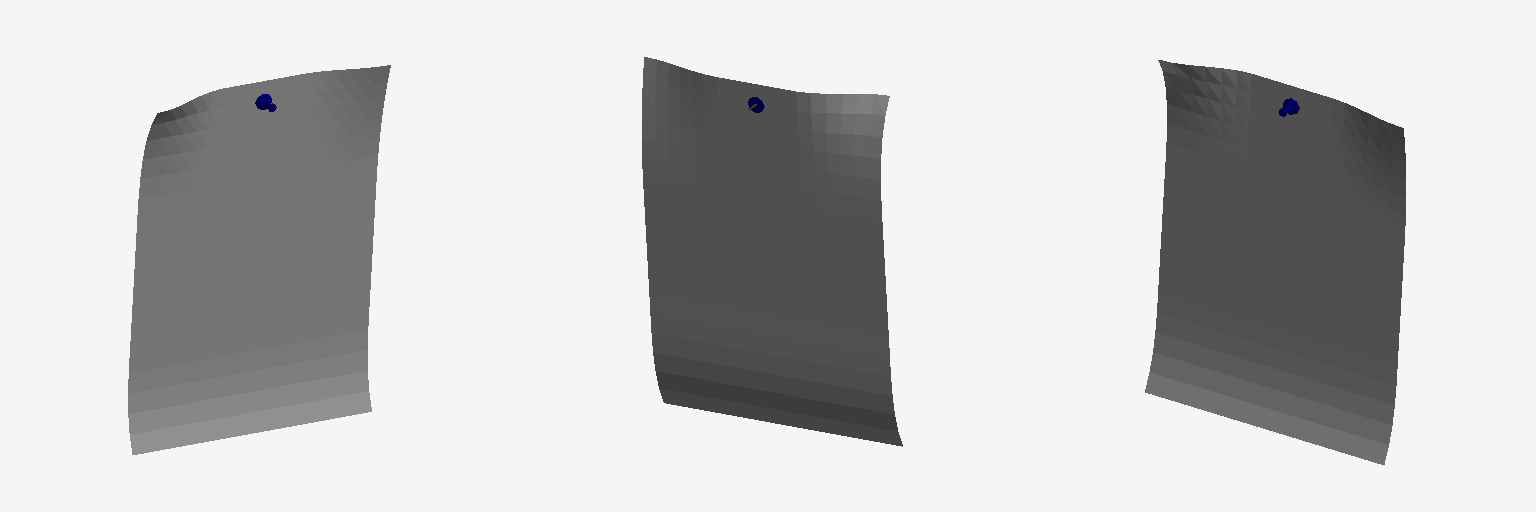
The model's file is paperpin1.obj.
3 views of the same model, side by side, from view 1: azimuth 30°, elevation 25°; view 2: azimuth 150°, elevation 25°; view 3: azimuth 330°, elevation 25° (orthographic).
Parts seen in each view (by area): view 1: drawing.005; view 2: drawing.005; view 3: drawing.005.
Boxes of the visible parts, x1,y1,x2,y2 form: drawing.005: [128, 65, 390, 454]; drawing.005: [642, 57, 902, 446]; drawing.005: [1145, 60, 1405, 464].
Bounding box in the file's own units: 0.2335 × 0.3075 × 0.0369.